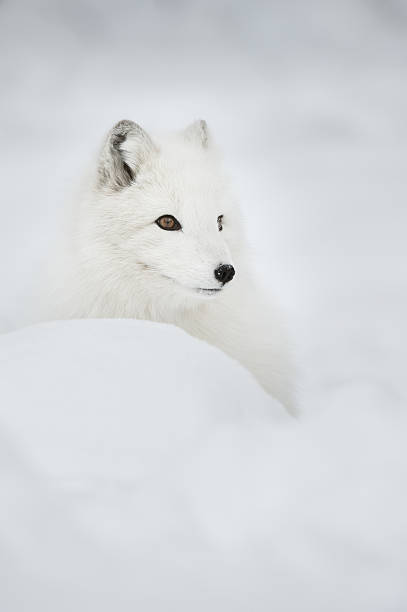arcticfox: (122, 163, 227, 303)
